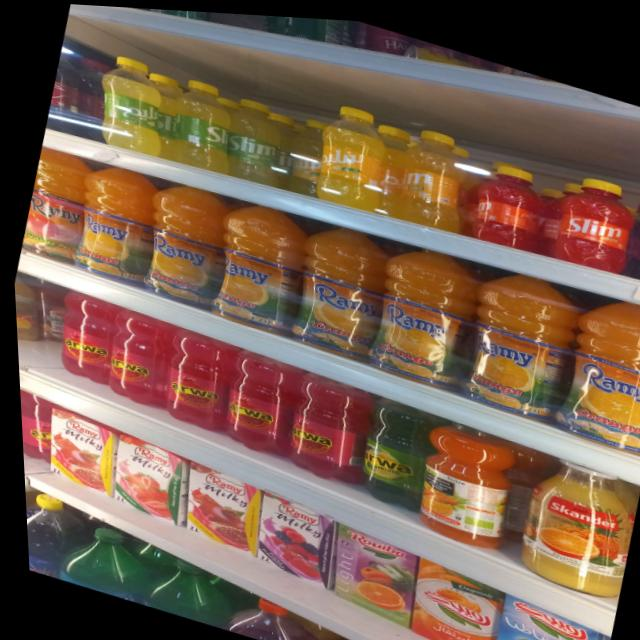arwa_plastique: (274, 365, 378, 485), (346, 391, 446, 512), (150, 322, 239, 431), (211, 349, 303, 454), (98, 305, 180, 408), (43, 287, 124, 386), (16, 384, 54, 458)
hamoud_plastique: (537, 159, 640, 273), (381, 119, 480, 234), (301, 98, 396, 210), (83, 46, 176, 160), (454, 149, 552, 252), (155, 70, 246, 178), (212, 90, 296, 190), (20, 485, 89, 584), (269, 108, 334, 198)
ifruit_plastique: (399, 411, 518, 548)
ramy_carton: (234, 486, 335, 586), (94, 429, 195, 524), (164, 458, 262, 553), (30, 406, 122, 495)
ramy_plastique: (448, 255, 588, 421), (355, 231, 488, 390), (275, 214, 399, 361), (197, 188, 317, 336), (541, 280, 640, 446), (127, 171, 238, 311), (61, 153, 168, 286), (14, 141, 100, 264)
rouiba_carton: (311, 518, 421, 623), (392, 549, 507, 640), (473, 585, 605, 640)
skander_plastique: (503, 447, 640, 598)
